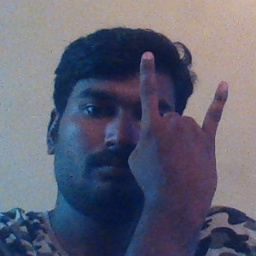V: (125, 49, 234, 210)
